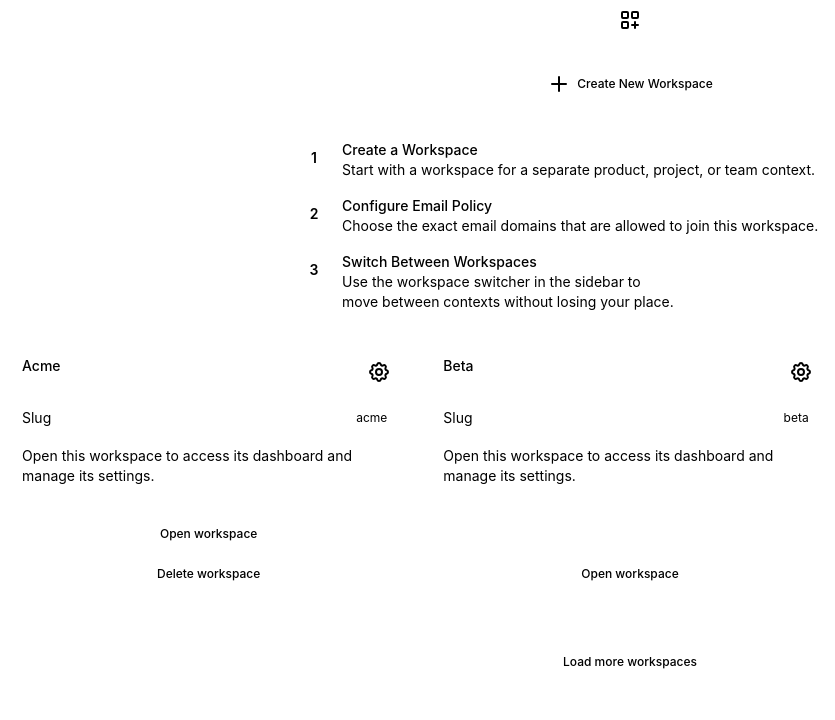
it: preserves successful pages and the cursor beside a safe generated-read failure
This screenshot has width=835, height=720.
Click the button "Load more workspaces": [630, 662] box x1=553 y1=646 x2=707 y2=678
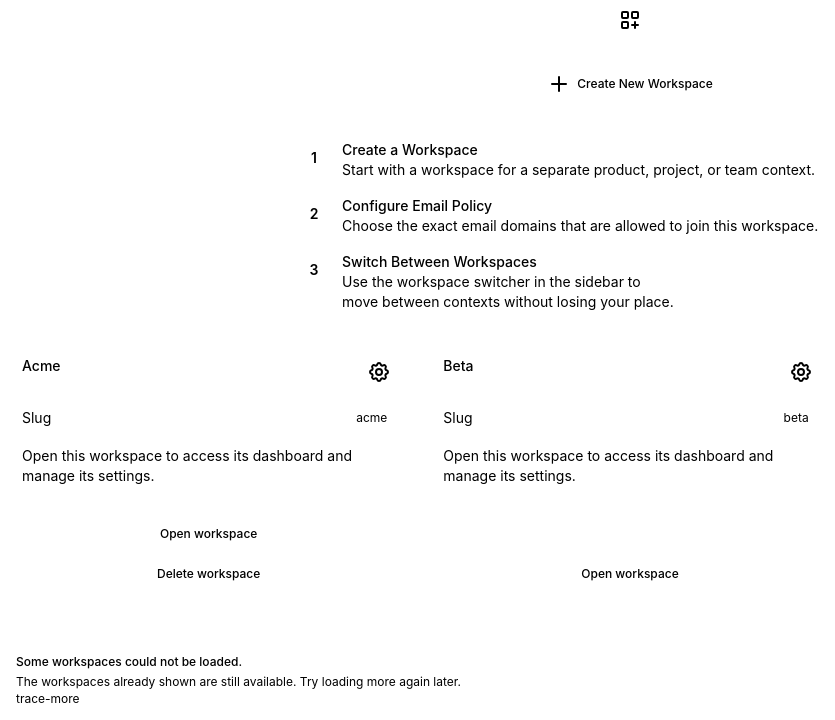
Expected: the message shows "Some workspaces could not be loaded.", x1=16 y1=654 x2=242 y2=668
Expected: the message shows "trace-more", x1=16 y1=691 x2=80 y2=706
Expected: the message is shown, x1=16 y1=654 x2=461 y2=706
